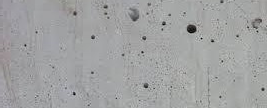Spalling: (1, 1, 267, 108)
